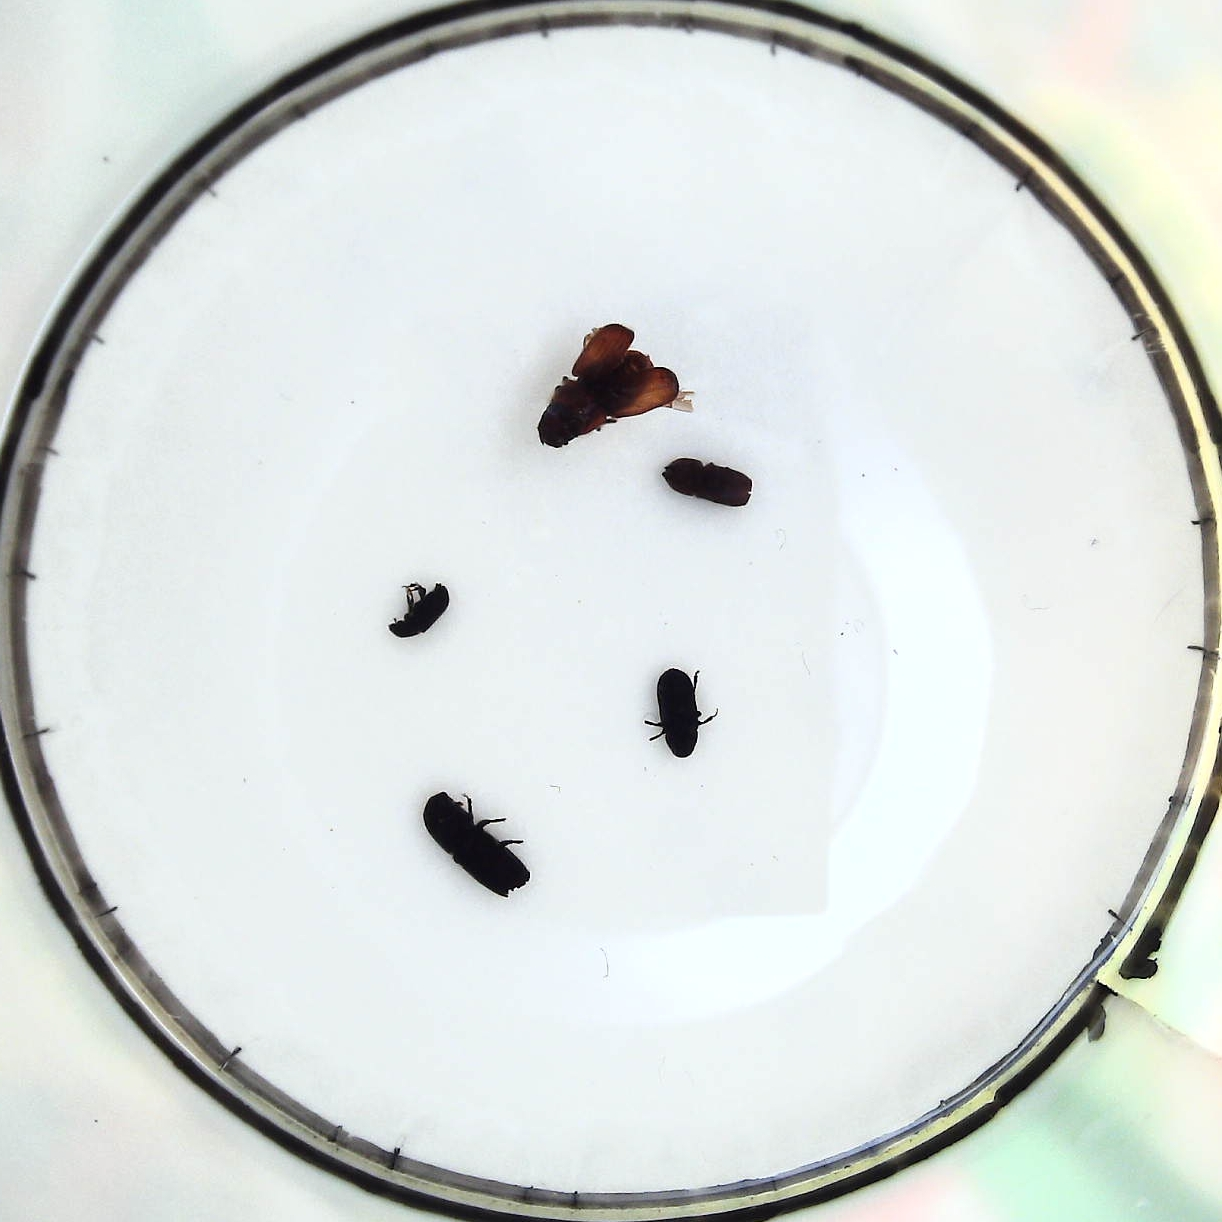Boerner: (425, 784, 534, 901)
Leconte: (534, 323, 681, 454)
Linnaeus: (664, 454, 759, 520)
armandi: (649, 662, 709, 762)
coleoptera: (393, 576, 452, 650)
